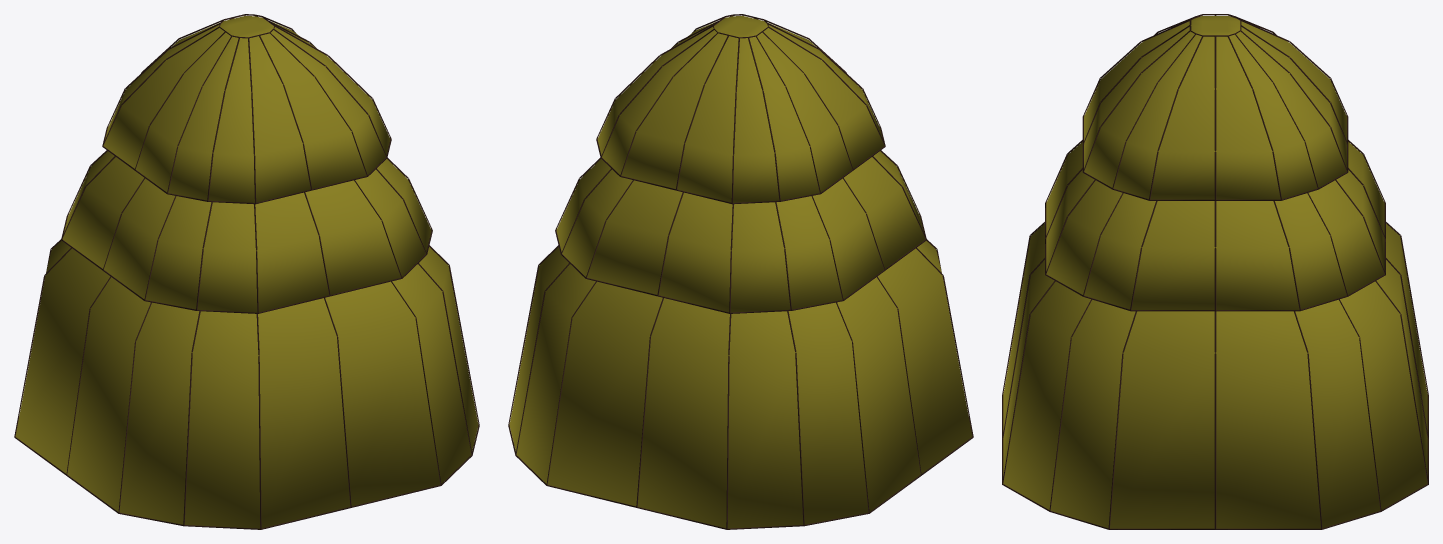
The model's file is HayBale.fbx.
3 renders of one model, left to right at view 1: azimuth 30°, elevation 25°; view 2: azimuth 150°, elevation 25°; view 3: azimuth 270°, elevation 25°, orthographic. The views are drawn at different scales.
Parts seen in each view (by area): view 1: HayBale; view 2: HayBale; view 3: HayBale.
Boxes of the visible parts, <box> form: HayBale: <box>14,14,479,529</box>; HayBale: <box>508,14,973,529</box>; HayBale: <box>1002,14,1428,529</box>.
Bounding box in the file's own units: 576 × 618 × 576.
